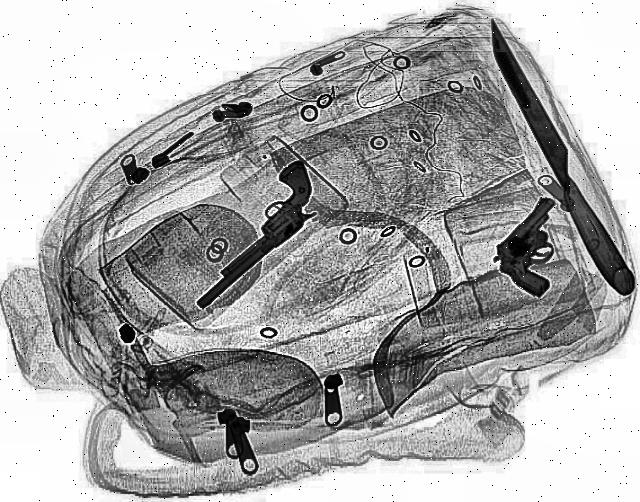Gun: (152, 159, 348, 311), (476, 195, 608, 301)
Knife: (478, 19, 638, 299)
